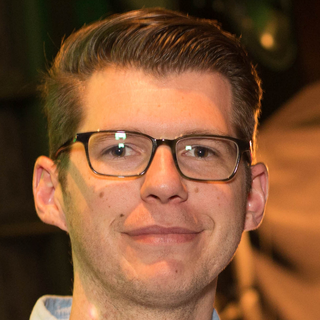eye: (183, 141, 224, 165), (100, 139, 139, 163)
